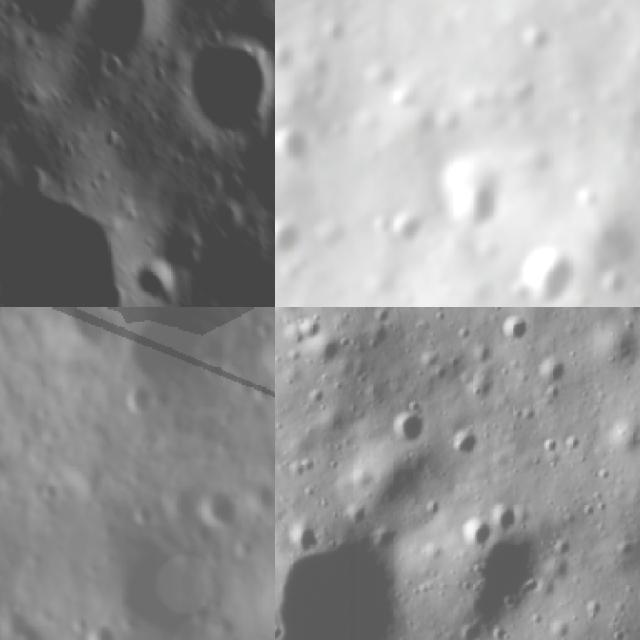crater: (456, 523, 622, 640), (0, 177, 141, 307), (275, 521, 407, 640), (101, 531, 221, 640), (185, 29, 275, 136), (117, 307, 216, 382), (440, 153, 510, 235), (509, 239, 578, 307), (86, 0, 165, 57), (226, 124, 275, 193), (127, 257, 187, 307), (9, 0, 95, 33), (56, 307, 111, 352), (596, 323, 640, 377), (0, 596, 49, 640), (202, 480, 244, 530), (162, 478, 206, 524), (390, 206, 431, 249), (388, 400, 425, 447), (275, 123, 313, 166), (448, 416, 479, 464), (120, 380, 158, 419), (284, 518, 320, 556), (96, 48, 129, 89), (509, 23, 555, 52), (498, 307, 530, 347), (537, 352, 572, 388), (597, 268, 629, 307), (492, 498, 526, 534), (315, 14, 349, 49), (459, 516, 496, 547), (275, 215, 299, 261), (249, 478, 275, 518), (507, 74, 540, 104), (362, 211, 397, 238), (83, 615, 120, 640), (275, 37, 296, 80), (258, 332, 275, 377), (251, 380, 275, 404)
